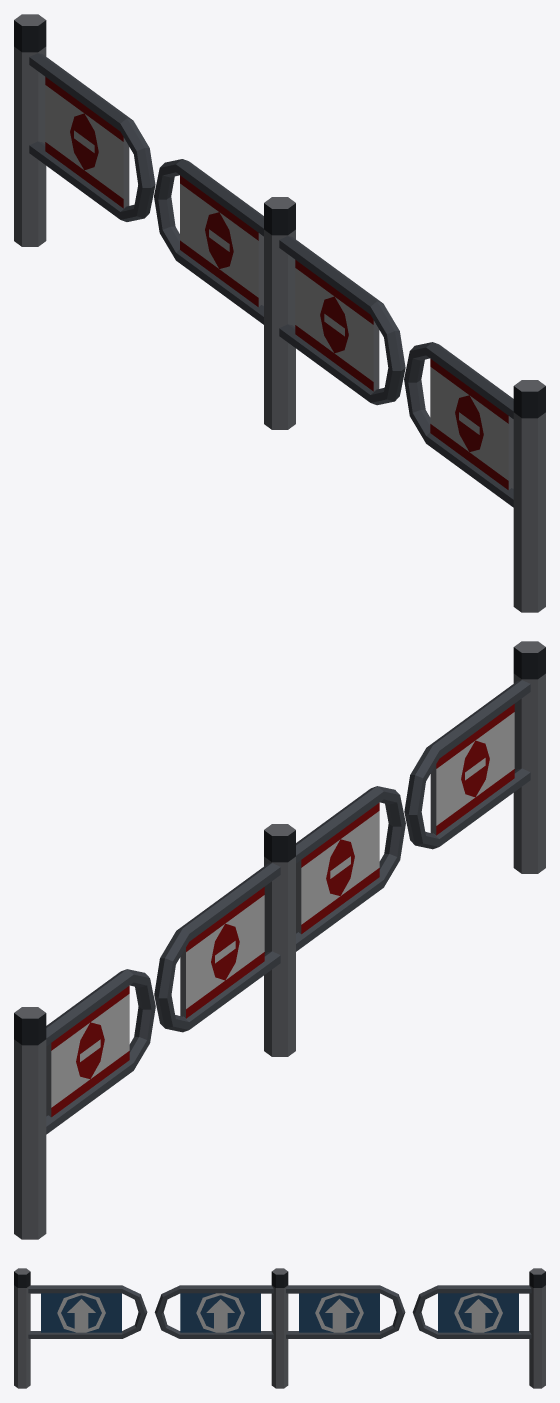
File: MarketBarrier.fbx
3 views of the same model, one above another, from view 1: azimuth 30°, elevation 25°; view 2: azimuth 150°, elevation 25°; view 3: azimuth 270°, elevation 25° (orthographic). The views are drawn at different scales.
Visible parts, largest first — view 1: MarketBarrier01, MarketBarrierGate2, MarketBarrierGate4, MarketBarrierGate3, MarketBarrierGate1; view 2: MarketBarrier01, MarketBarrierGate3, MarketBarrierGate1, MarketBarrierGate4, MarketBarrierGate2; view 3: MarketBarrier01, MarketBarrierGate1, MarketBarrierGate3, MarketBarrierGate2, MarketBarrierGate4.
Boxes of the visible parts, box(x1,y1,x2,y2) form: MarketBarrier01: box(14, 14, 545, 612); MarketBarrierGate2: box(279, 236, 405, 405); MarketBarrierGate4: box(29, 53, 155, 221); MarketBarrierGate3: box(154, 159, 263, 324); MarketBarrierGate1: box(404, 342, 513, 507); MarketBarrier01: box(14, 641, 545, 1239); MarketBarrierGate3: box(154, 863, 280, 1032); MarketBarrierGate1: box(404, 680, 530, 849); MarketBarrierGate4: box(46, 969, 155, 1134); MarketBarrierGate2: box(296, 786, 405, 951); MarketBarrier01: box(14, 1268, 545, 1388); MarketBarrierGate1: box(28, 1285, 147, 1338); MarketBarrierGate3: box(286, 1285, 405, 1338); MarketBarrierGate2: box(154, 1285, 273, 1338); MarketBarrierGate4: box(412, 1285, 531, 1338).
Size of the model in its own units: 13.97 by 122 by 516.
